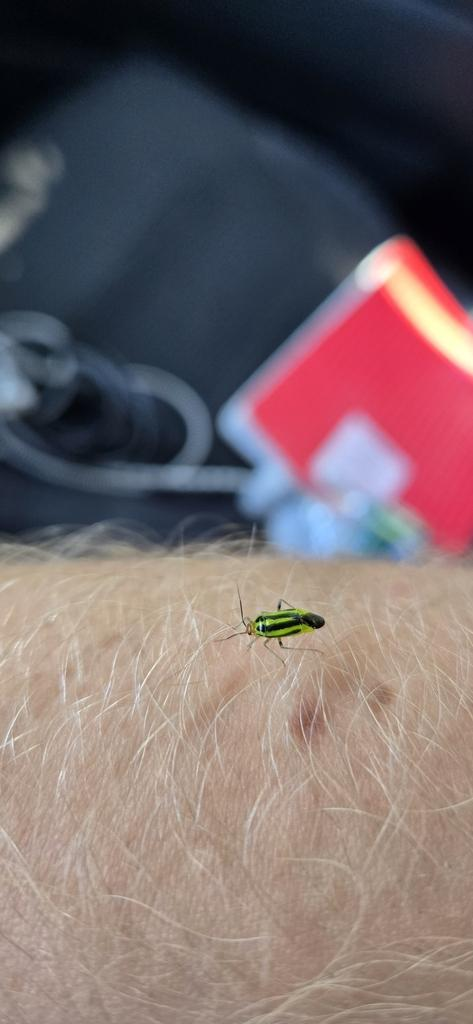plant_bugs: (194, 561, 343, 689)
